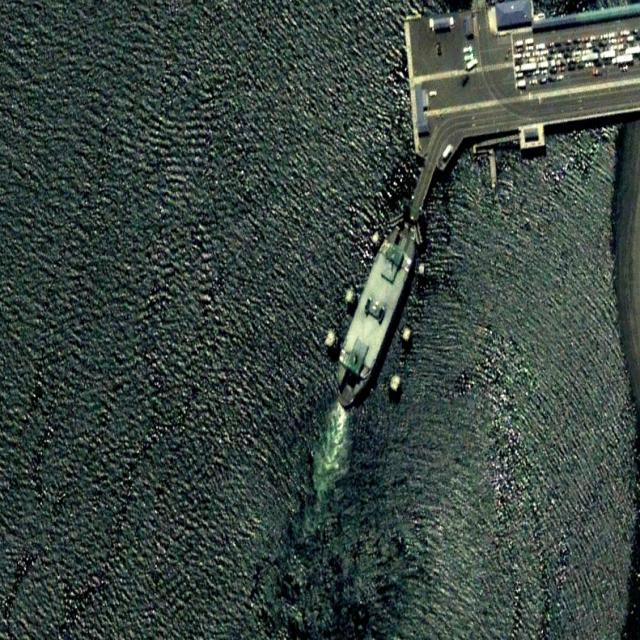RoRo: (324, 213, 423, 416)
